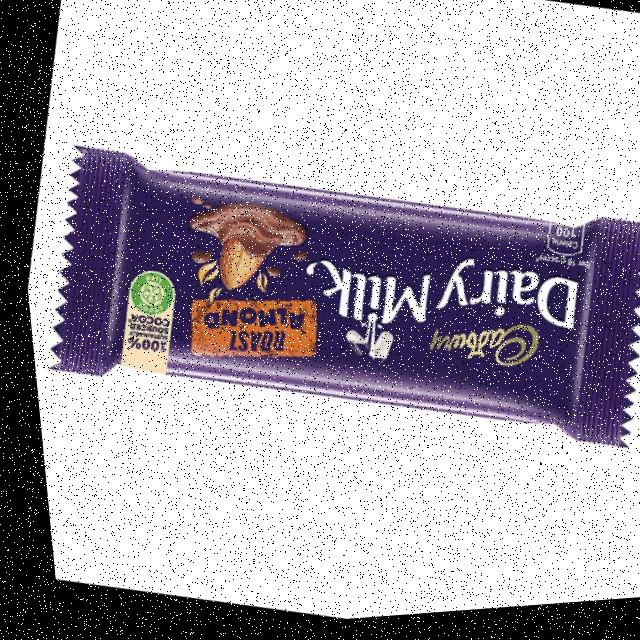cadbury: (21, 110, 640, 498)
